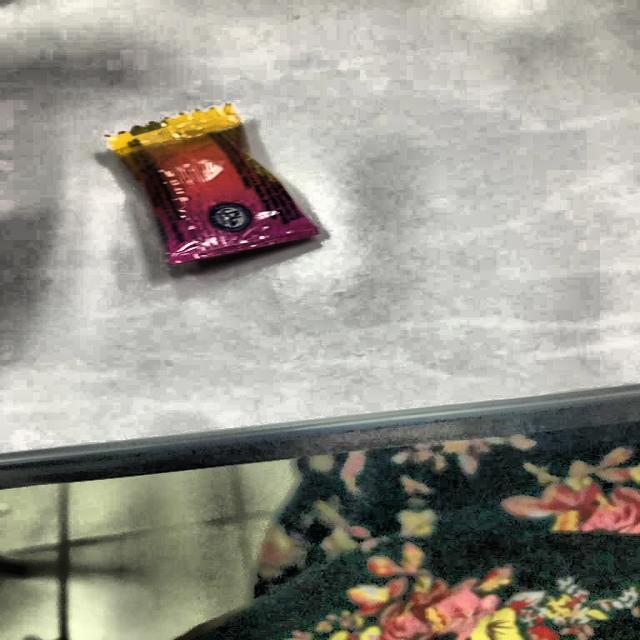Plastic: (98, 114, 331, 264)
